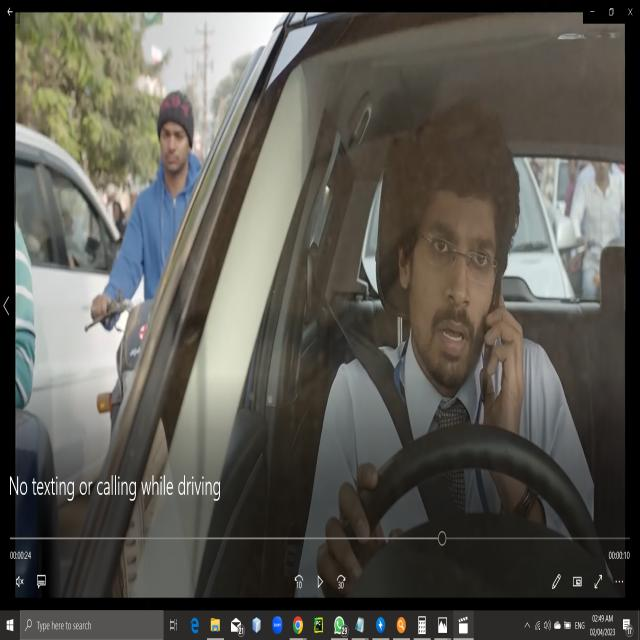using_phone: (457, 267, 543, 423)
without_using_phone: (138, 58, 205, 200)
